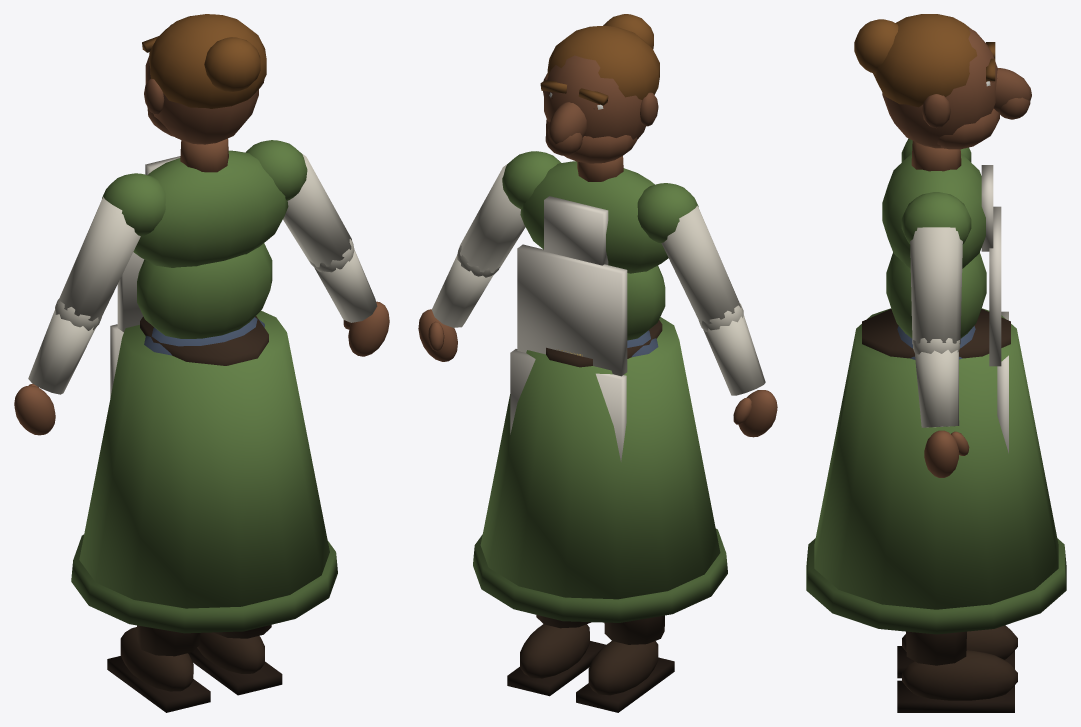
File: mercadora_2.glb
3 renders of one model, left to right at view 1: azimuth 30°, elevation 25°; view 2: azimuth 150°, elevation 25°; view 3: azimuth 270°, elevation 25°, orthographic. The views are drawn at different scales.
Visible parts, largest first — view 1: Hips, Chest, Head, Spine, RightUpperArm, RightFoot, LeftUpperArm, LeftFoot, RightForeArm, LeftForeArm, RightHand, LeftHand (+2 smaller); view 2: Hips, Chest, Head, Spine, RightUpperArm, RightFoot, LeftFoot, LeftUpperArm, RightForeArm, LeftForeArm, RightHand, LeftHand (+2 smaller); view 3: Hips, Head, Chest, LeftFoot, LeftUpperArm, Spine, LeftForeArm, LeftLowerLeg, RightFoot, LeftHand, Neck.
Boxes of the visible parts, left/top/right/bottom form: Hips: left=71, top=310, right=337, bottom=633; Chest: left=102, top=140, right=307, bottom=267; Head: left=142, top=14, right=266, bottom=144; Spine: left=117, top=243, right=272, bottom=338; RightUpperArm: left=57, top=197, right=140, bottom=322; RightFoot: left=107, top=627, right=210, bottom=712; LeftUpperArm: left=283, top=153, right=351, bottom=267; LeftFoot: left=188, top=632, right=282, bottom=695; RightForeArm: left=28, top=298, right=101, bottom=394; LeftForeArm: left=309, top=239, right=377, bottom=322; RightHand: left=14, top=383, right=55, bottom=435; LeftHand: left=343, top=301, right=389, bottom=356; Hips: left=473, top=317, right=727, bottom=622; Chest: left=502, top=151, right=698, bottom=273; Head: left=540, top=14, right=659, bottom=163; Spine: left=517, top=244, right=665, bottom=376; RightUpperArm: left=661, top=205, right=741, bottom=325; RightFoot: left=576, top=641, right=674, bottom=712; LeftFoot: left=507, top=624, right=605, bottom=696; LeftUpperArm: left=459, top=163, right=525, bottom=272; RightForeArm: left=698, top=303, right=765, bottom=395; LeftForeArm: left=431, top=245, right=499, bottom=327; RightHand: left=733, top=390, right=777, bottom=437; LeftHand: left=418, top=309, right=457, bottom=361; Hips: left=806, top=308, right=1066, bottom=634; Head: left=854, top=14, right=1031, bottom=149; Chest: left=882, top=138, right=993, bottom=268; LeftFoot: left=897, top=650, right=1017, bottom=712; LeftUpperArm: left=910, top=227, right=962, bottom=344; Spine: left=886, top=206, right=1001, bottom=366; LeftForeArm: left=913, top=338, right=959, bottom=427; LeftLowerLeg: left=906, top=631, right=966, bottom=665; RightFoot: left=897, top=625, right=1017, bottom=678; LeftHand: left=924, top=430, right=969, bottom=477; Neck: left=911, top=141, right=961, bottom=171.
Size of the model in its own units: 1.09 by 1.87 by 0.663.
